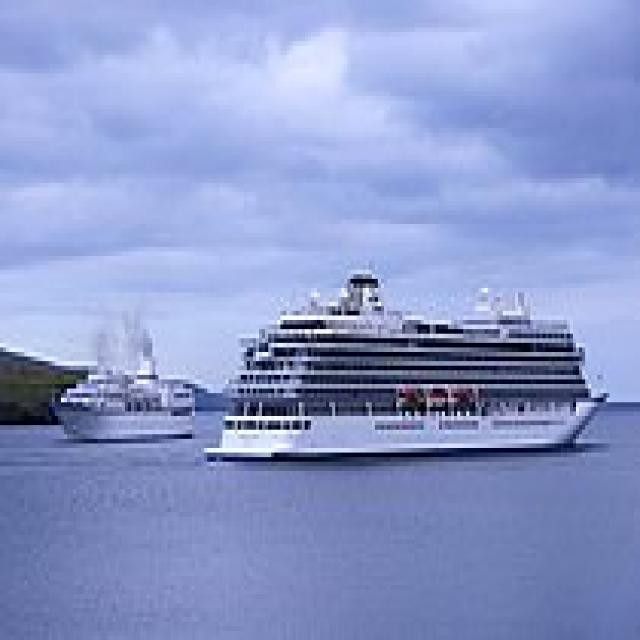Ship: (208, 253, 626, 477)
